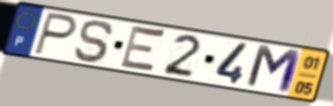2: (162, 33, 204, 80)
4: (212, 40, 251, 87)
E: (117, 23, 168, 76)
M: (243, 43, 304, 97)
P: (31, 10, 80, 58)
S: (72, 18, 117, 65)
